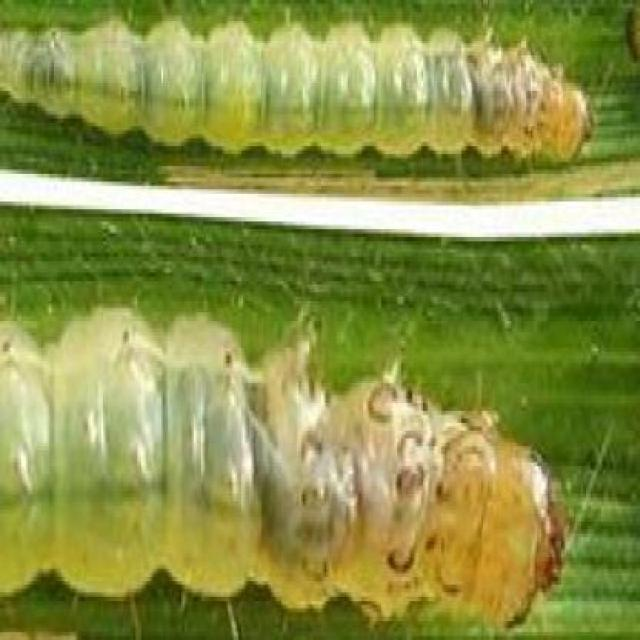leaf-folder: (7, 290, 570, 630), (0, 9, 611, 192)
